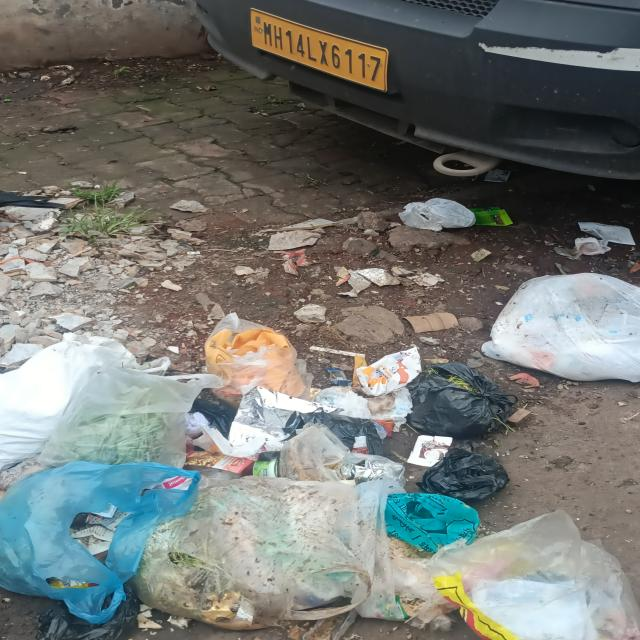garbage: (7, 291, 640, 640)
